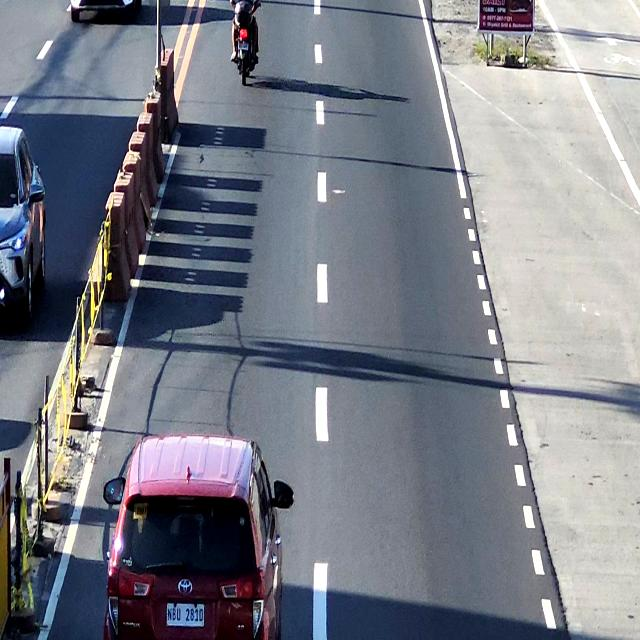Car: (106, 437, 284, 640)
License-Plate: (164, 601, 205, 627)
Motorcycle: (230, 0, 264, 89)
